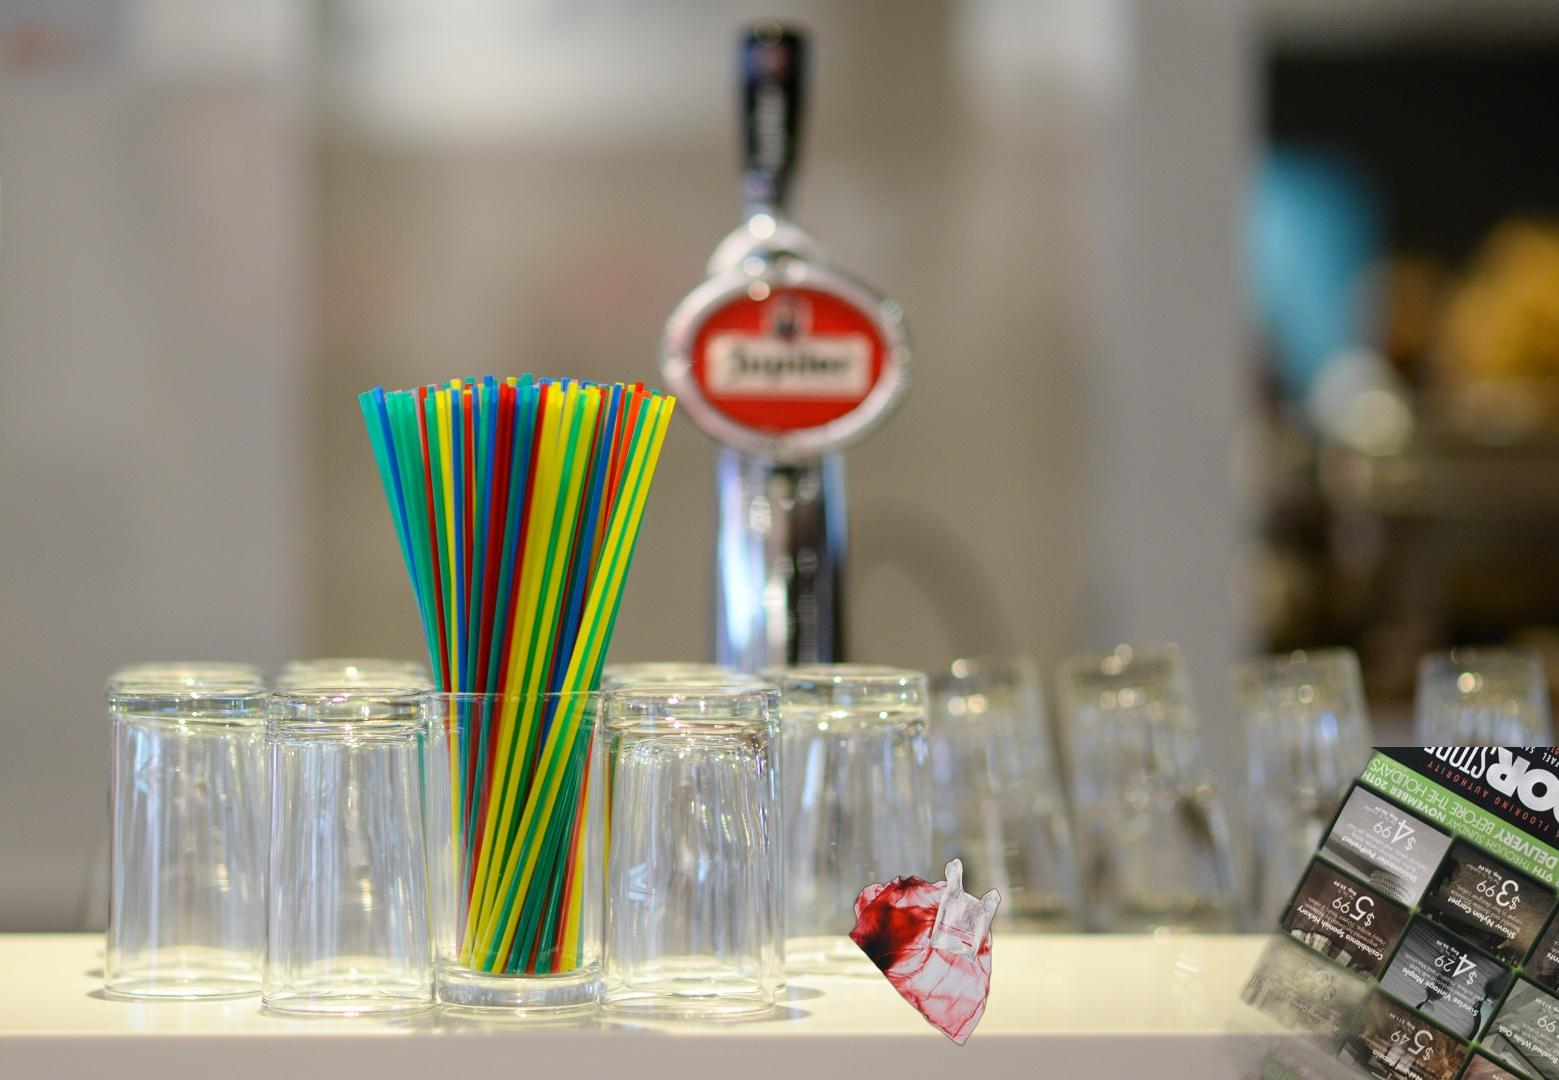paper: (1213, 747, 1559, 1080)
plastic-bag: (848, 857, 1005, 1048)
